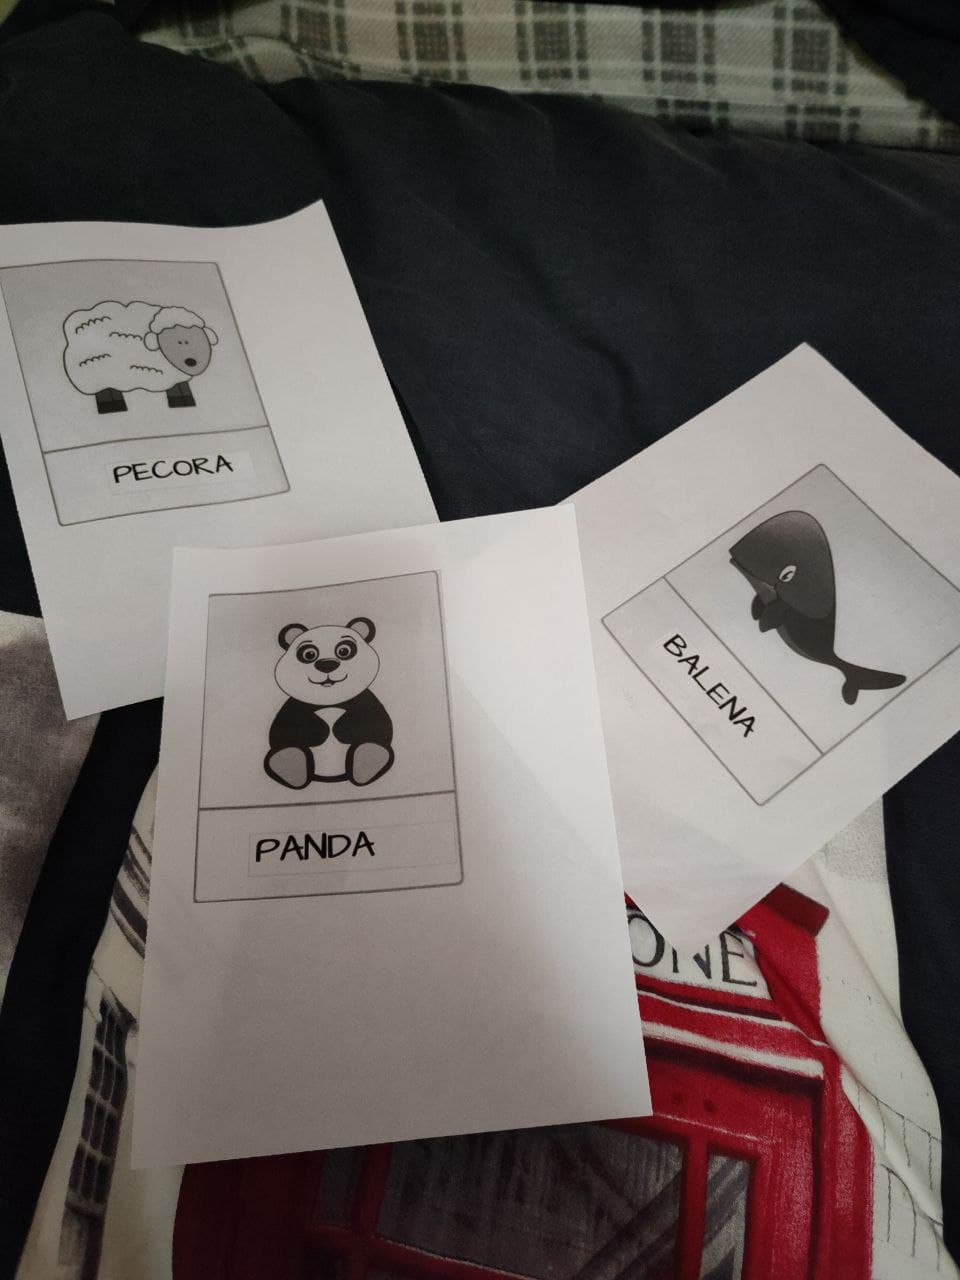balena: (641, 489, 928, 772)
panda: (217, 601, 436, 887)
pecora: (27, 259, 309, 513)
